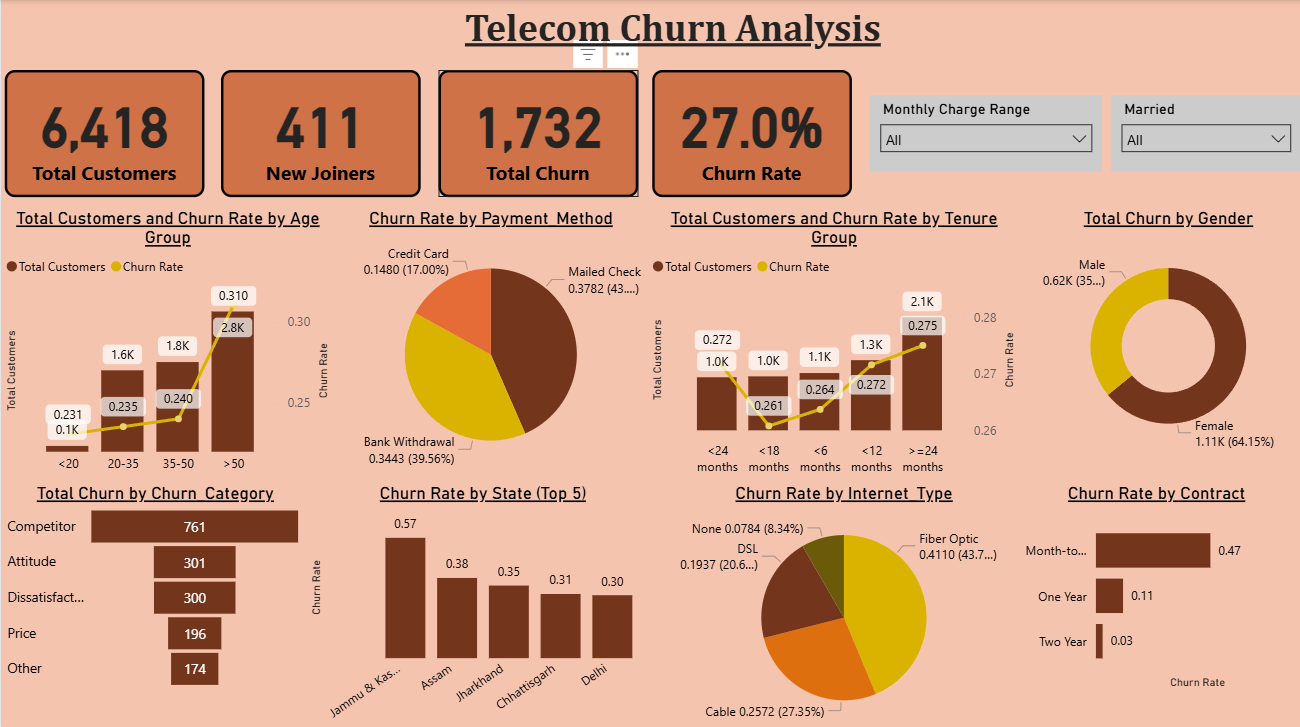

This screenshot's page, from the dashboard's own definition file:
{"tool":"powerbi","page":{"name":"Summary","canvas":[1280,720],"ordinal":0},"visuals":[{"type":"card","fields":{"Values":["tbl_Measures.Total Customers"]},"box":[3.7,68.7,196.3,125.2],"z":0},{"type":"card","fields":{"Values":["tbl_Measures.New Joiners"]},"box":[216,68.7,196.3,125.2],"z":1000},{"type":"card","fields":{"Values":["tbl_Measures.Total Churn"]},"box":[429.5,68.7,196.3,125.2],"z":2000},{"type":"card","fields":{"Values":["tbl_Measures.Churn Rate"]},"box":[639.3,68.7,196.3,125.2],"z":3000},{"type":"lineStackedColumnComboChart","fields":{"Category":["mapping_AgeGrp.Age Group"],"Y":["tbl_Measures.Total Customers"],"Y2":["tbl_Measures.Churn Rate"]},"box":[0,203.7,327.6,269.9],"z":4000},{"type":"donutChart","fields":{"Y":["tbl_Measures.Total Churn"],"Category":["prod_Churn.Gender"]},"box":[1012.3,203.7,267.5,252.8],"z":5000},{"type":"pieChart","fields":{"Category":["prod_Churn.Payment_Method"],"Y":["tbl_Measures.Churn Rate"]},"box":[327.6,203.7,306.8,269.9],"z":6000},{"type":"clusteredBarChart","fields":{"Y":["tbl_Measures.Churn Rate"],"Category":["prod_Churn.Contract"]},"box":[989,473.6,290.8,207.4],"z":7000},{"type":"lineStackedColumnComboChart","fields":{"Category":["mapping_TenureGrp.Tenure Group"],"Y":["tbl_Measures.Total Customers"],"Y2":["tbl_Measures.Churn Rate"]},"box":[634.4,203.7,366.9,269.9],"z":8000},{"type":"columnChart","title":"Churn Rate by State (Top 5)","fields":{"Category":["prod_Churn.State"],"Y":["tbl_Measures.Churn Rate"]},"box":[299.4,473.6,347.2,246.6],"z":9000},{"type":"funnel","fields":{"Category":["prod_Churn.Churn_Category"],"Y":["tbl_Measures.Total Churn"]},"box":[1.2,473.6,300.6,207.4],"z":10000},{"type":"pieChart","fields":{"Category":["prod_Churn.Internet_Type"],"Y":["tbl_Measures.Churn Rate"]},"box":[654,473.6,347.2,246.6],"z":11000},{"type":"slicer","fields":{"Values":["prod_Churn.Monthly Charge Status"]},"box":[852.8,93.3,228.2,74.8],"z":12000},{"type":"slicer","fields":{"Values":["prod_Churn.Married"]},"box":[1089.6,93.3,186.5,74.8],"z":13000},{"type":"textbox","box":[382.8,0,553.4,58.9],"z":13001}]}

Visuals, with their boxes in screenshot pixels (x1, y1, x2, y2), scaled from the page's 1280x720 canvas onto the 1300x727 screenshot:
card - tbl_Measures.Total Customers: bbox=(4, 69, 203, 196)
card - tbl_Measures.New Joiners: bbox=(219, 69, 419, 196)
card - tbl_Measures.Total Churn: bbox=(436, 69, 636, 196)
card - tbl_Measures.Churn Rate: bbox=(649, 69, 849, 196)
lineStackedColumnComboChart - mapping_AgeGrp.Age Group x tbl_Measures.Total Customers: bbox=(0, 206, 333, 478)
donutChart - tbl_Measures.Total Churn x prod_Churn.Gender: bbox=(1028, 206, 1299, 461)
pieChart - prod_Churn.Payment_Method x tbl_Measures.Churn Rate: bbox=(333, 206, 644, 478)
clusteredBarChart - tbl_Measures.Churn Rate x prod_Churn.Contract: bbox=(1004, 478, 1299, 688)
lineStackedColumnComboChart - mapping_TenureGrp.Tenure Group x tbl_Measures.Total Customers: bbox=(644, 206, 1017, 478)
"Churn Rate by State (Top 5)" columnChart: bbox=(304, 478, 657, 726)
funnel - prod_Churn.Churn_Category x tbl_Measures.Total Churn: bbox=(1, 478, 307, 688)
pieChart - prod_Churn.Internet_Type x tbl_Measures.Churn Rate: bbox=(664, 478, 1017, 726)
slicer - prod_Churn.Monthly Charge Status: bbox=(866, 94, 1098, 170)
slicer - prod_Churn.Married: bbox=(1107, 94, 1296, 170)
textbox: bbox=(389, 0, 951, 59)
